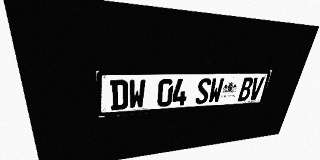0: (157, 79, 174, 107)
4: (172, 78, 189, 106)
B: (237, 77, 254, 101)
D: (110, 80, 128, 110)
S: (195, 78, 212, 104)
V: (248, 77, 265, 100)
W: (128, 79, 146, 109), (207, 78, 225, 103)
